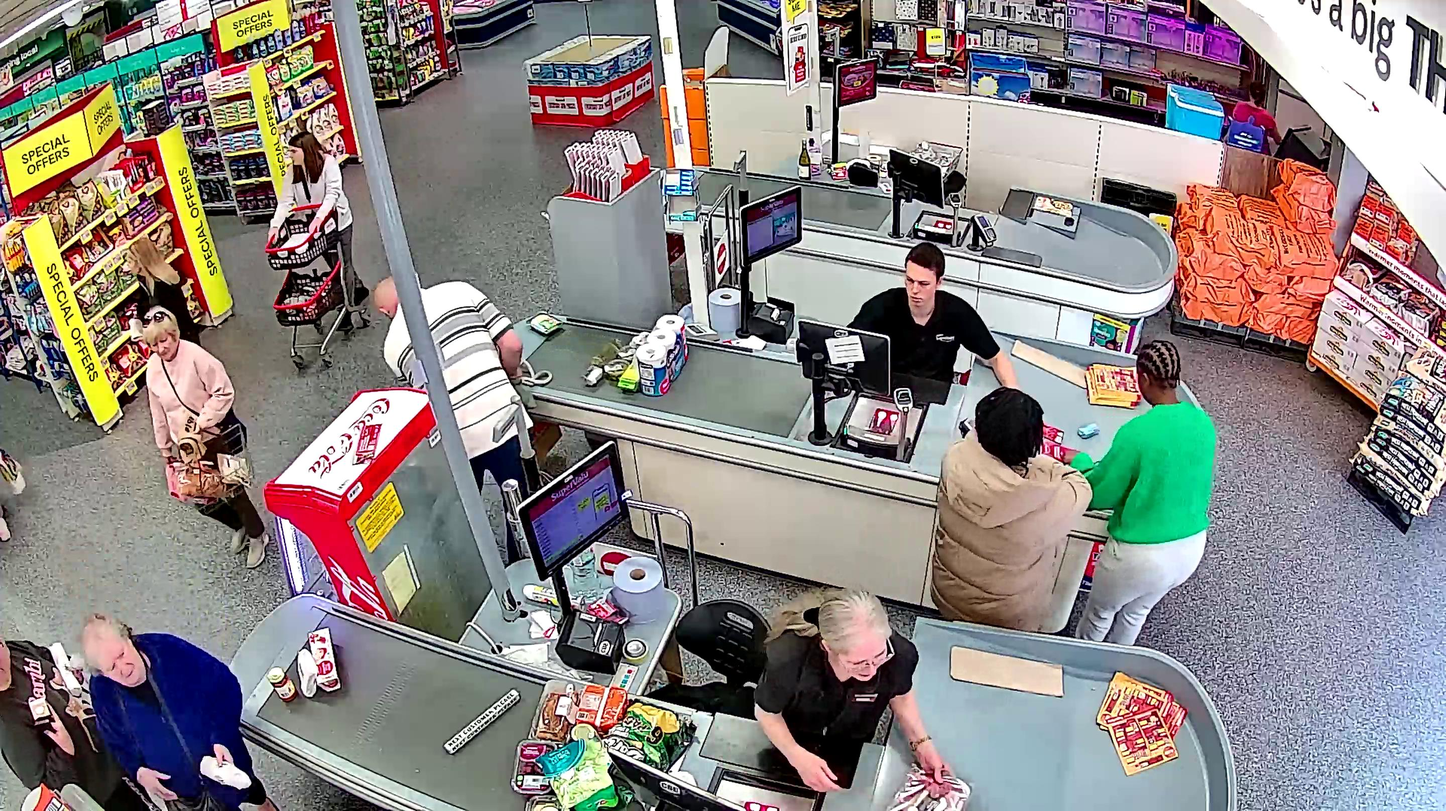filled-basket: (167, 423, 256, 517)
filled-trolly: (265, 203, 350, 368)
occupied-checkout-counter: (513, 436, 936, 811), (738, 179, 1017, 475)
person: (141, 306, 270, 569), (268, 130, 370, 319)
person-with-filled-basket-trolly: (141, 304, 269, 568), (265, 129, 370, 370)
vacant-checkout-counter: (829, 54, 1013, 250)
